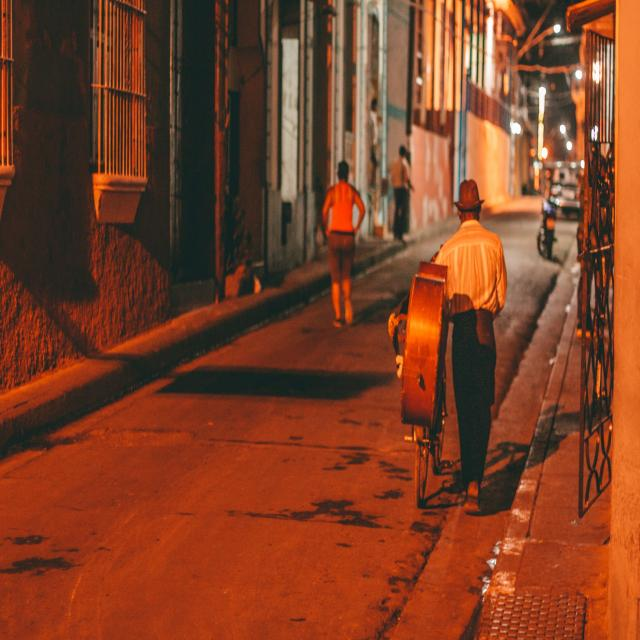adult: (426, 174, 508, 520), (319, 157, 368, 331)
